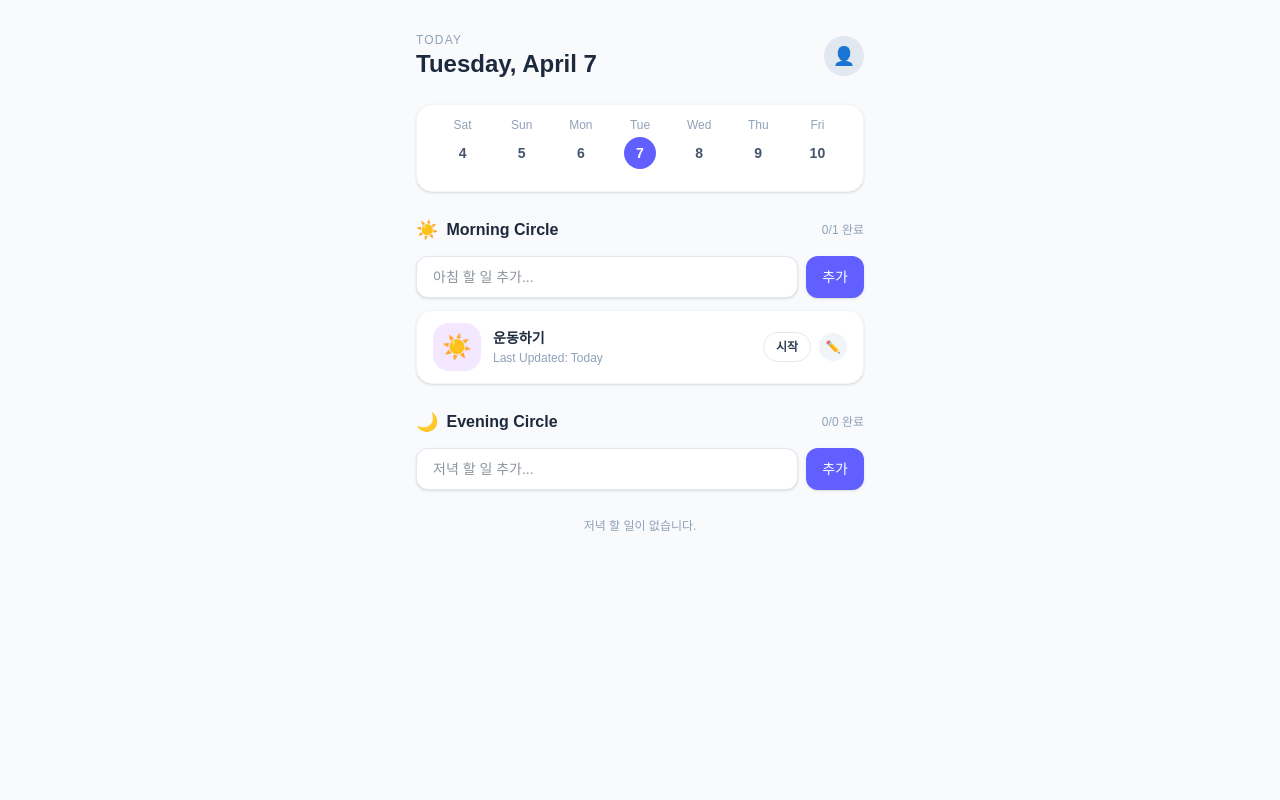
Test: Home › 편집 버튼(✏️)을 누르면 수정 모달이 열린다
Expected: the text "운동하기" is shown, [493,330,544,346]
Click the button "✏️".
click(833, 347)  # box [819,333,847,361]
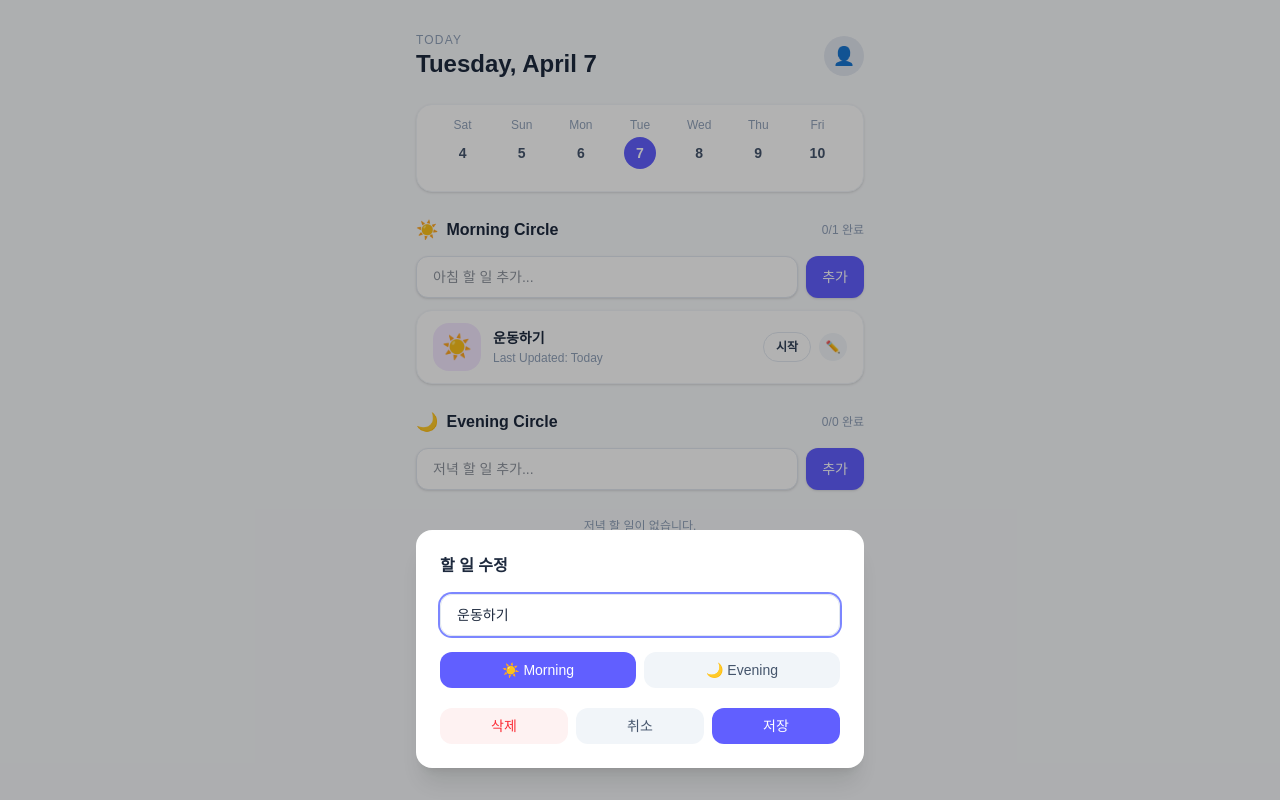
Now the heading "할 일 수정" is shown, box [440,557,508,574]
